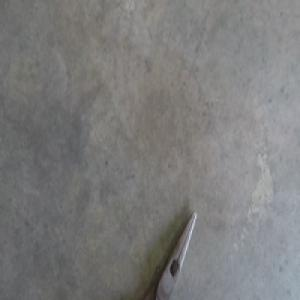Pliers: (143, 210, 196, 299)
